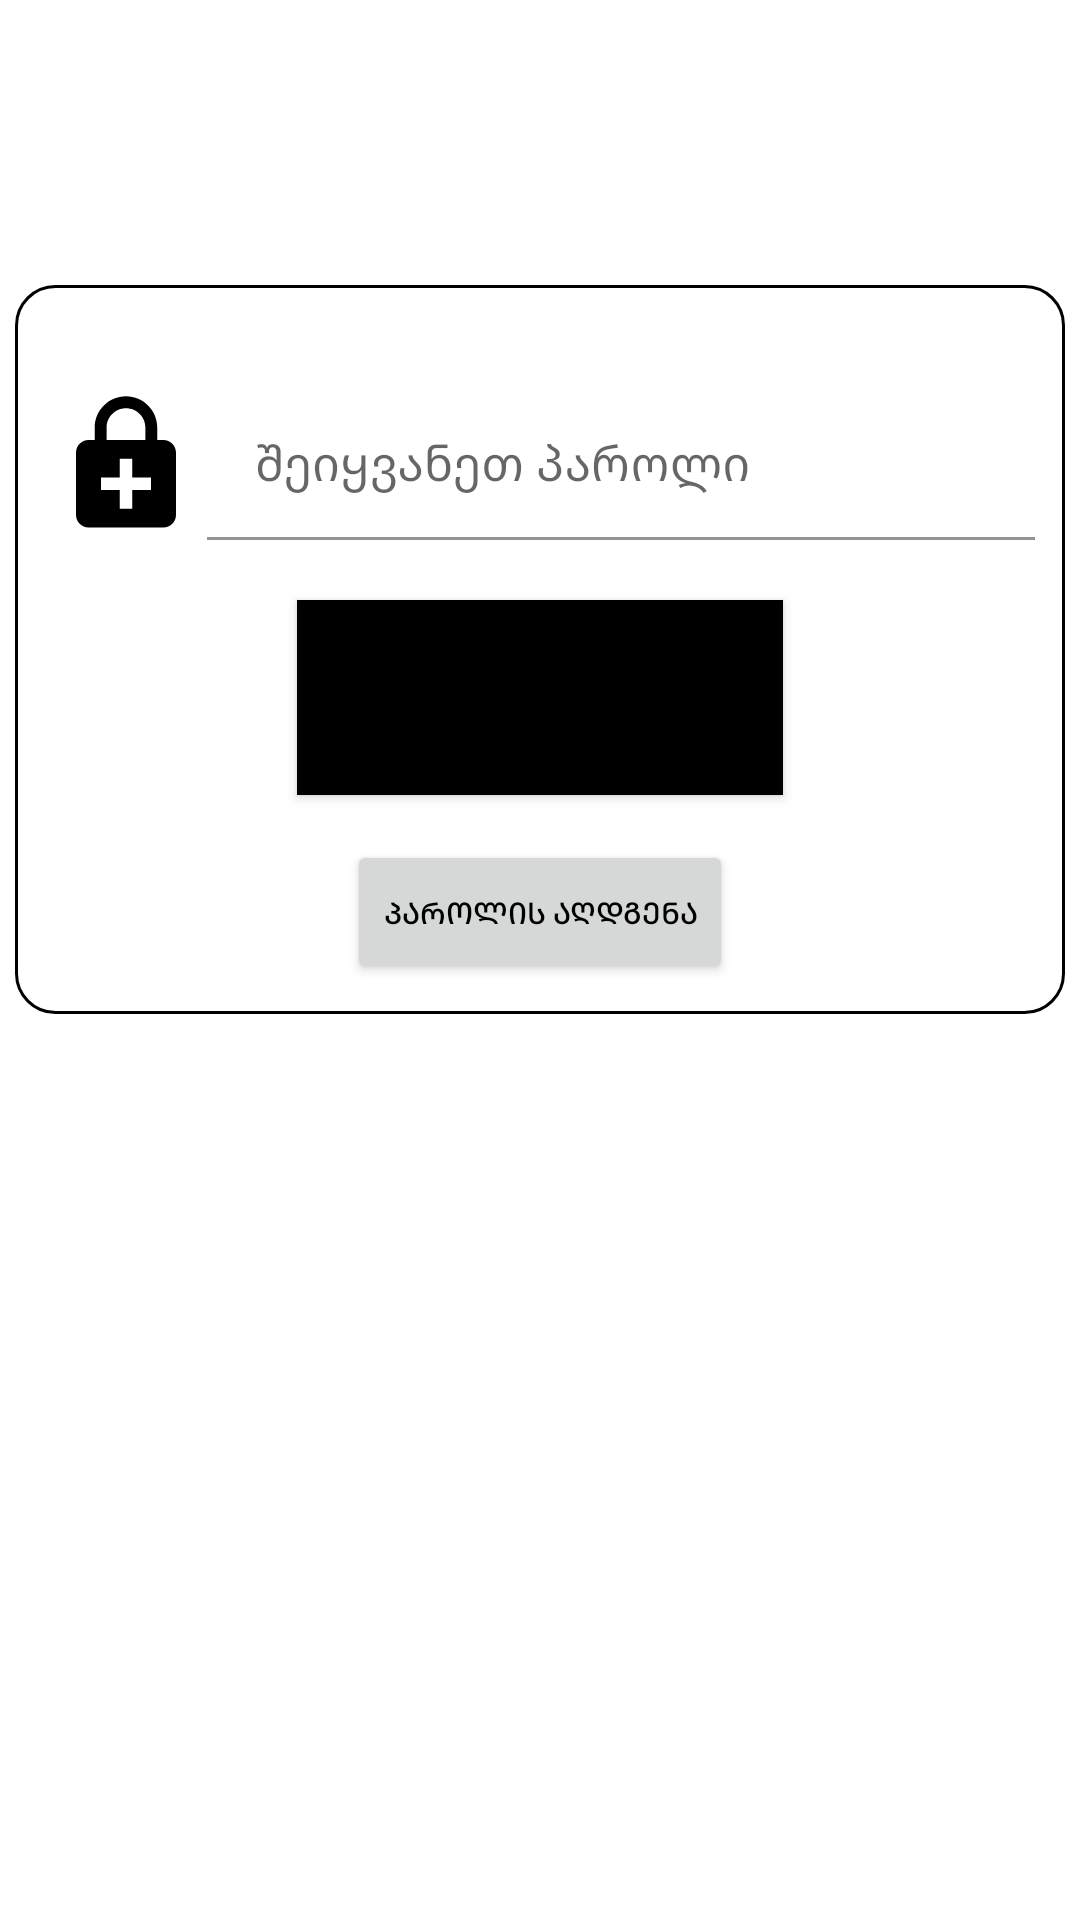

Named icons in this screenshot (1080px×1920px) and their bounding boxes, (x1, y1, x2, y2):
password: (76, 396, 176, 528)
